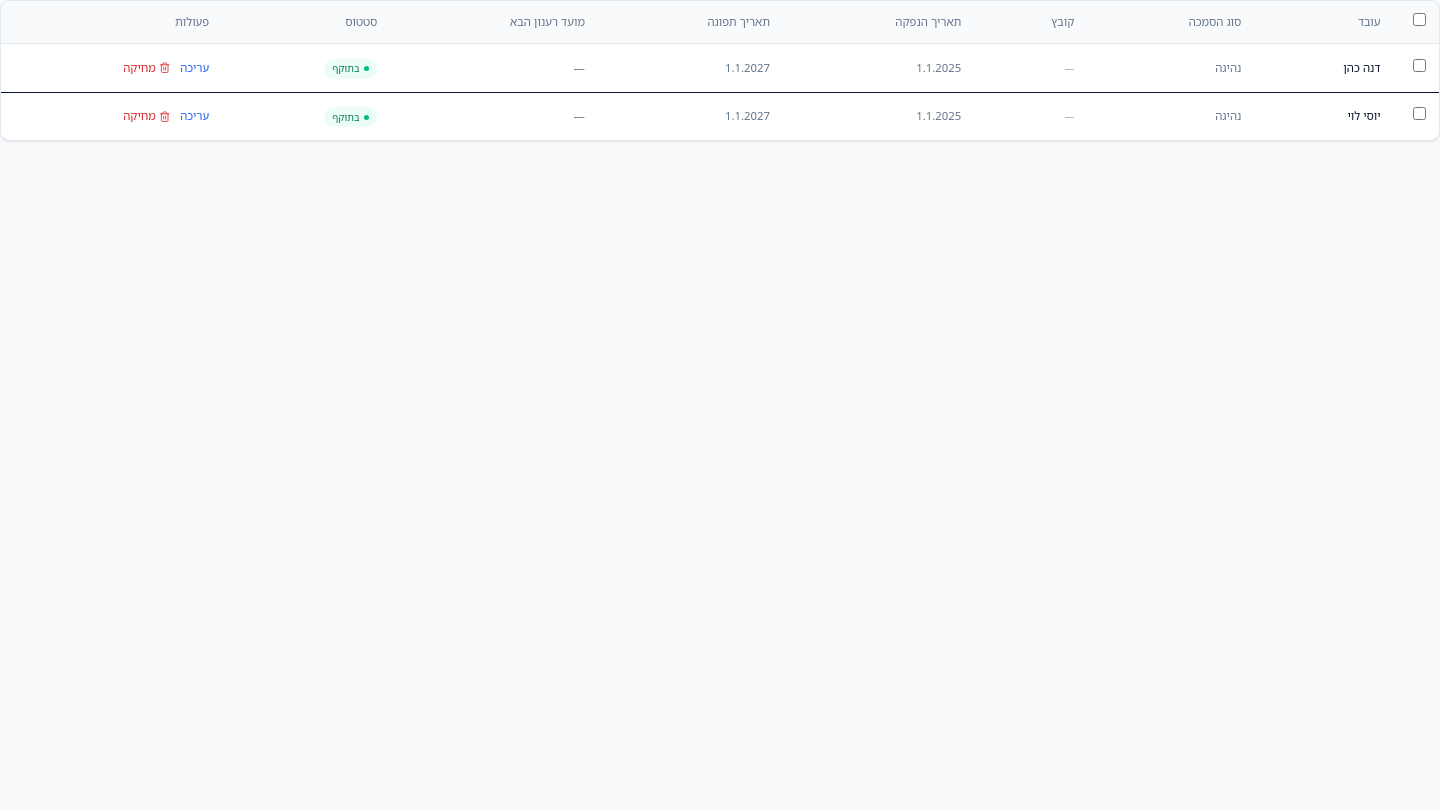
Test case: CertificationsList — bulk delete flow › thrown error preserves selection and shows the error banner
The width and height of the screenshot is (1440, 810).
Click the checkbox named "בחר דנה כהן — נהיגה" at (1420, 66), box [1413,59,1426,72]
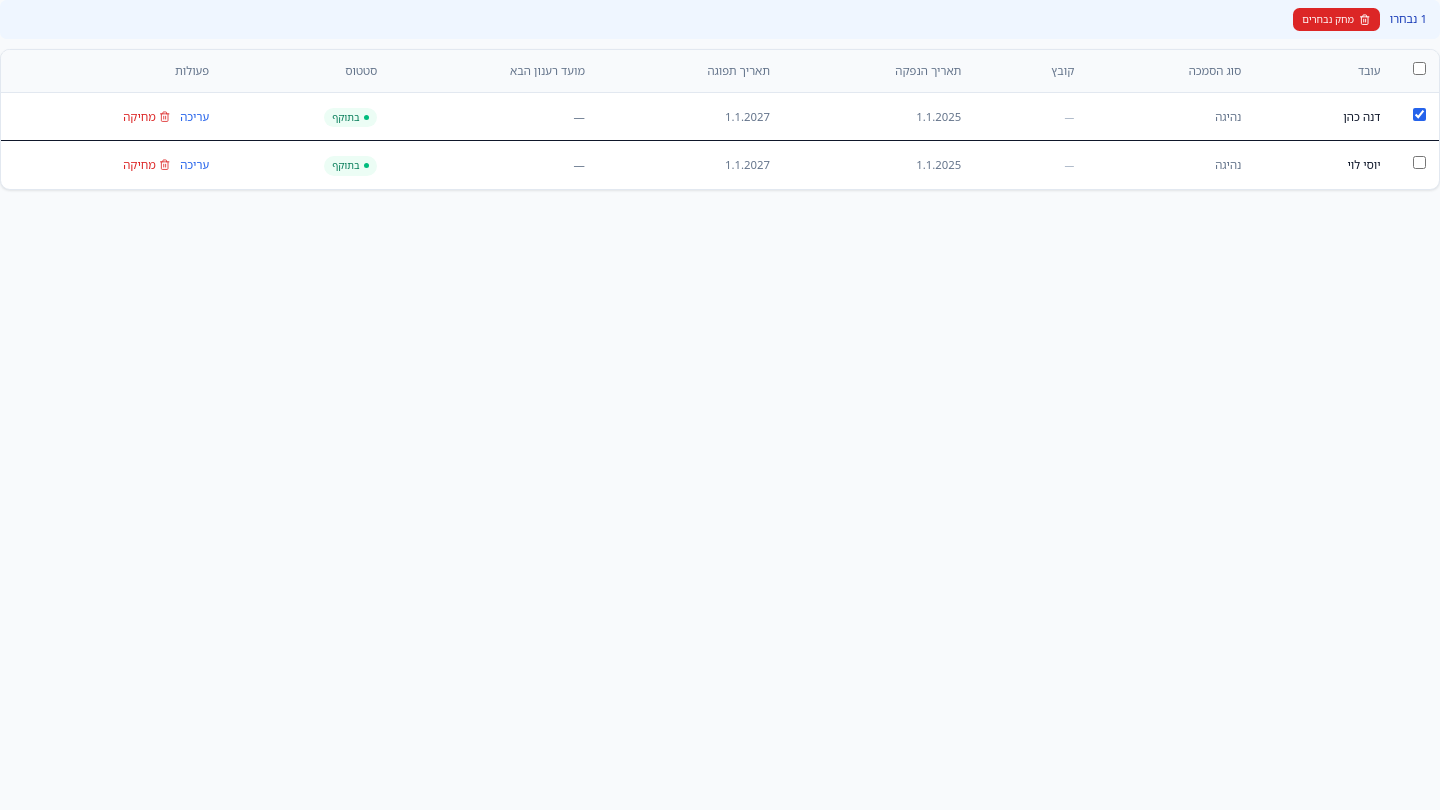
Click the checkbox named "בחר יוסי לוי — נהיגה" at (1420, 163), box [1413,156,1426,169]
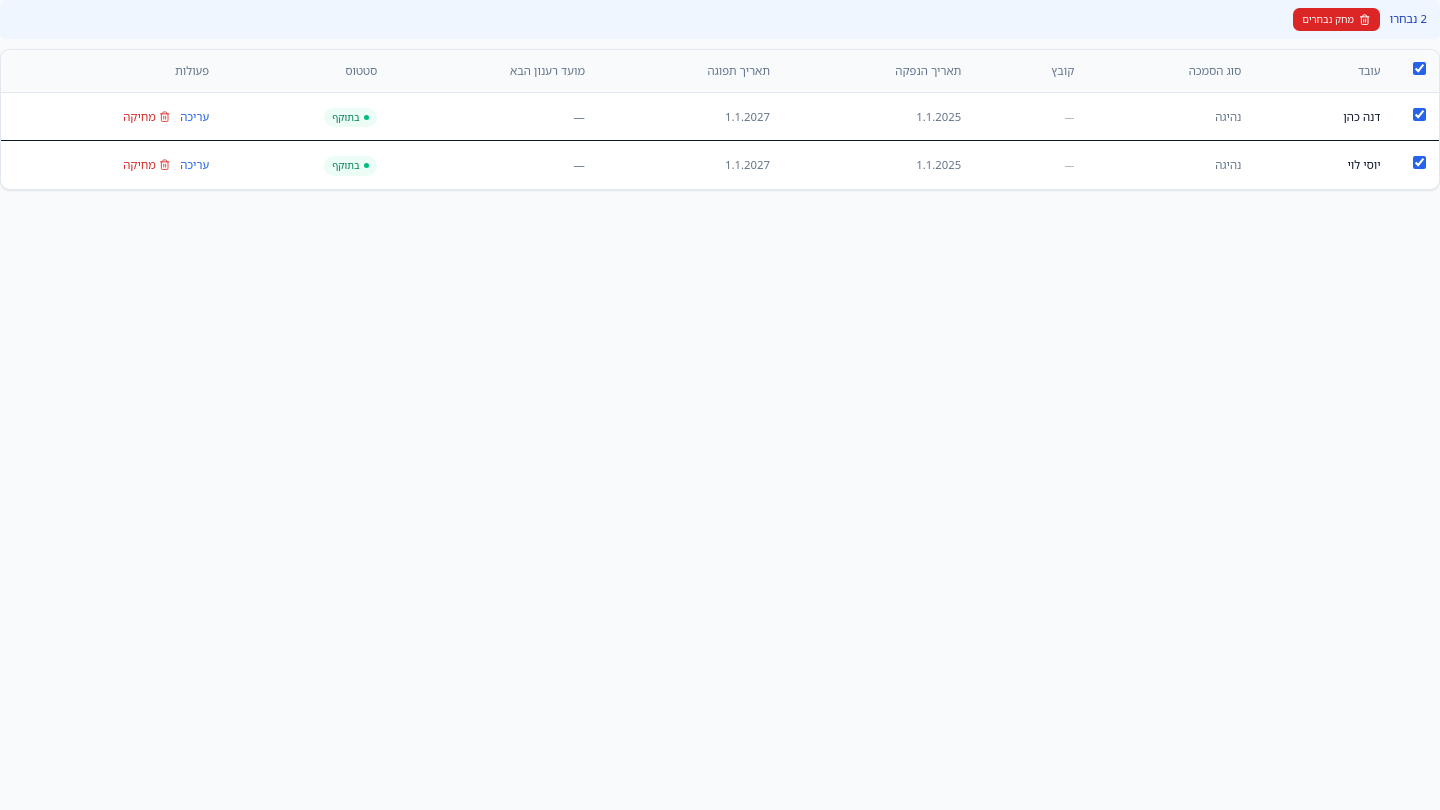
Click the button "מחק נבחרים" at (1336, 20), box [1292,8,1380,31]
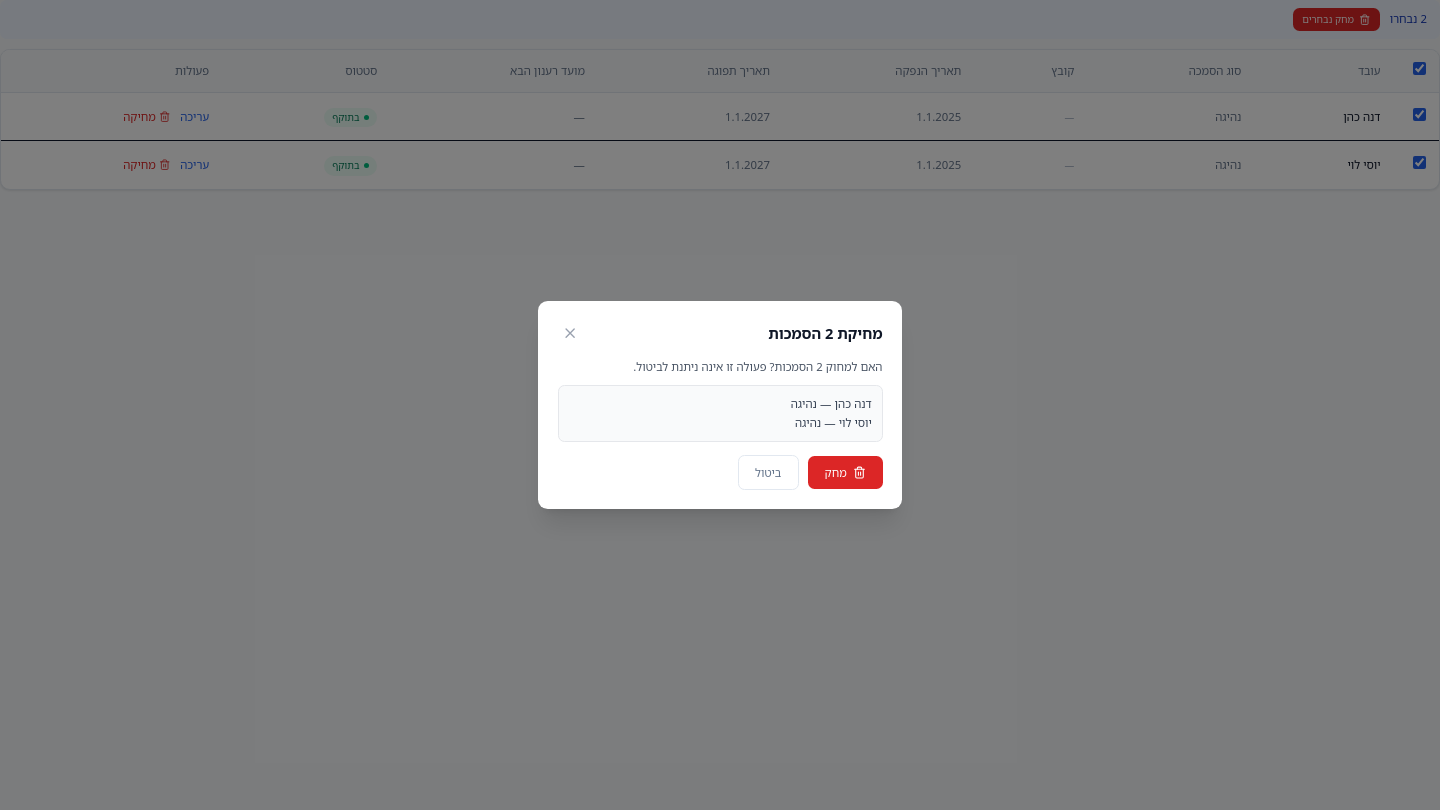
Click the button "מחק" at (845, 473), box [808,456,882,489]
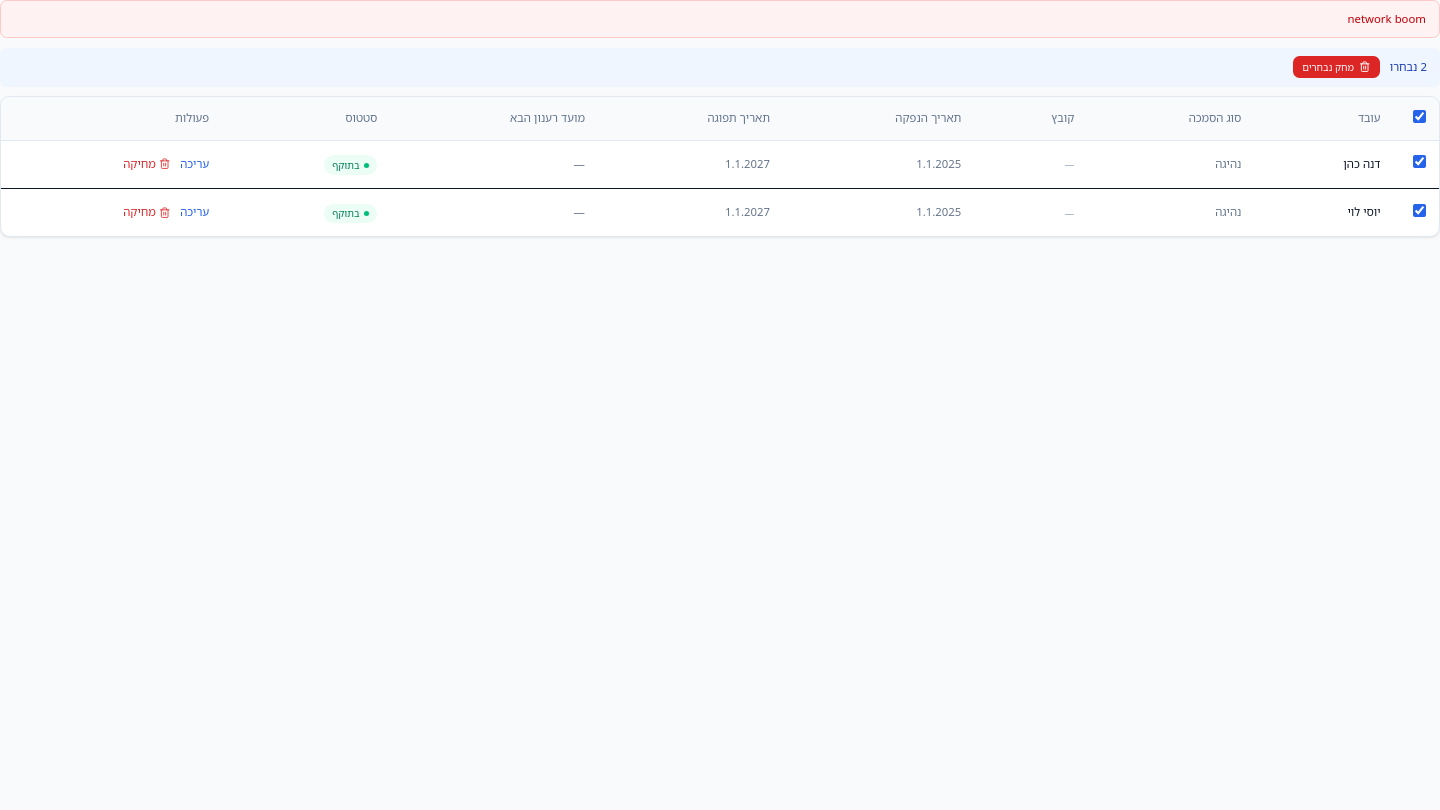
Now the checkbox named "בחר דנה כהן — נהיגה" is checked, box [1413,155,1426,168]
Now the message reads "network boom", box [1348,11,1426,26]
Now the heading "מחיקת" is gone
